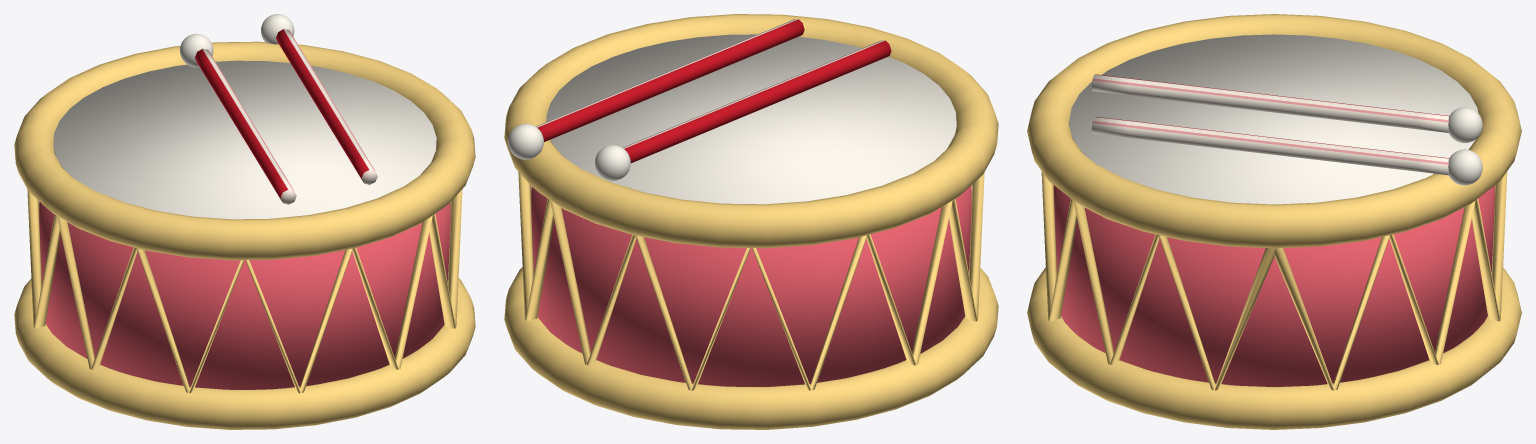
Rendered from snap_drum_v2.glb.
3 renders of one model, left to right at view 1: azimuth 30°, elevation 25°; view 2: azimuth 150°, elevation 25°; view 3: azimuth 270°, elevation 25°, orthographic. The views are drawn at different scales.
Visible parts, largest first — view 1: snap_drum; view 2: snap_drum; view 3: snap_drum.
Part boxes in pixels (x1,y1,x2,y2): snap_drum: [14, 14, 475, 429]; snap_drum: [504, 14, 998, 429]; snap_drum: [1027, 14, 1521, 429].
Bounding box in the file's own units: 0.494 × 0.27 × 0.494.
Materials: 4 (1 with a texture image).
